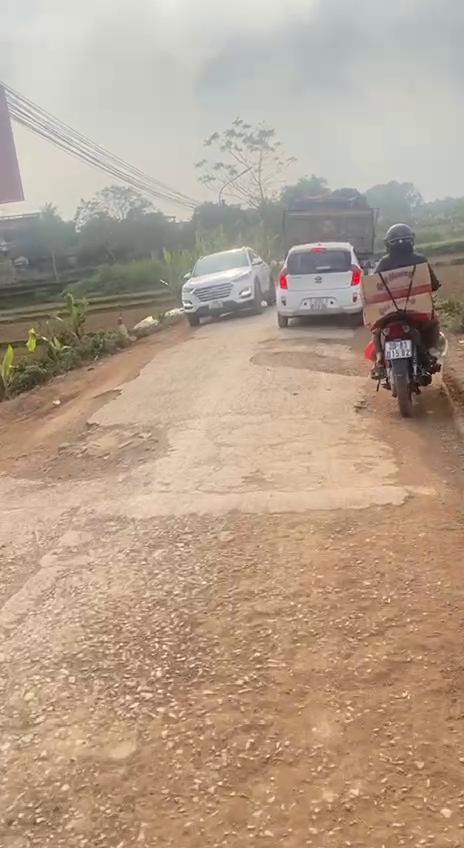pothole: (0, 384, 174, 486), (247, 332, 364, 378)
